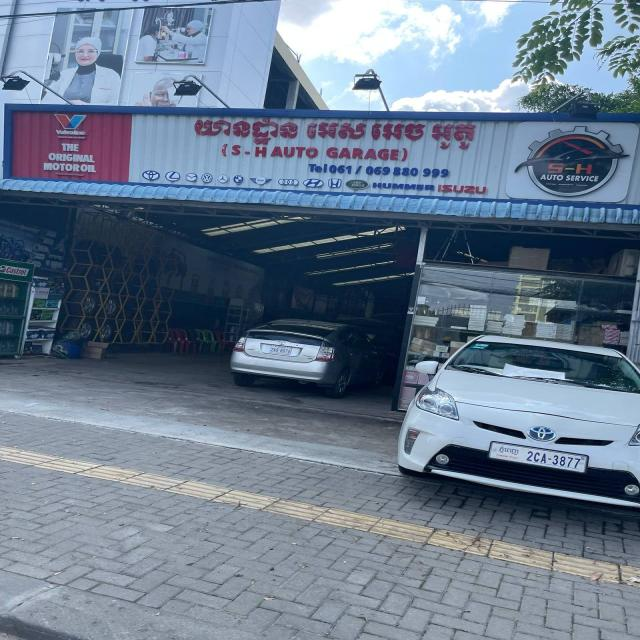3: (187, 114, 481, 150)
349: (328, 164, 451, 180)
631: (523, 450, 535, 462)
736: (550, 454, 583, 470)
Yolov11kh: (497, 444, 520, 457)
